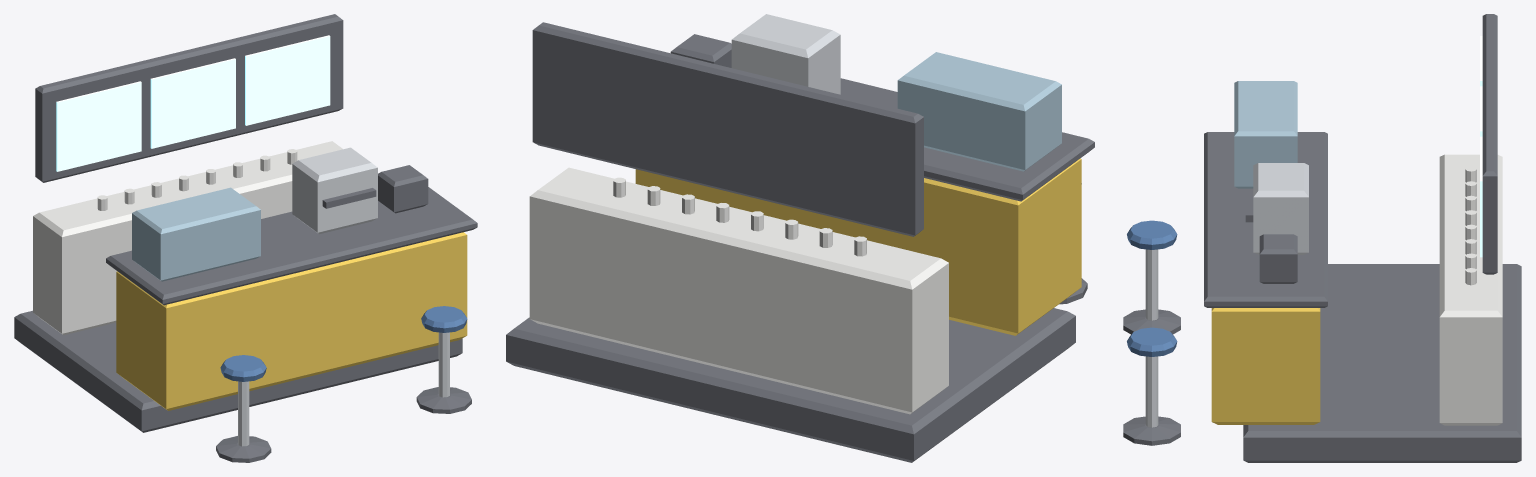
File: airport-terminal-and-ground-operations-cafe-unit-243fa76d__26045.glb
3 views of the same model, side by side, from view 1: azimuth 30°, elevation 25°; view 2: azimuth 150°, elevation 25°; view 3: azimuth 270°, elevation 25° (orthographic). The views are drawn at different scales.
Parts seen in each view (by area): view 1: cafe-unit; view 2: cafe-unit; view 3: cafe-unit.
Part boxes in pixels (x1,y1,x2,y2): cafe-unit: (14, 14, 477, 462); cafe-unit: (506, 14, 1094, 462); cafe-unit: (1123, 14, 1521, 462).
Size of the model in its own units: 3.2 by 2.5 by 3.15.
